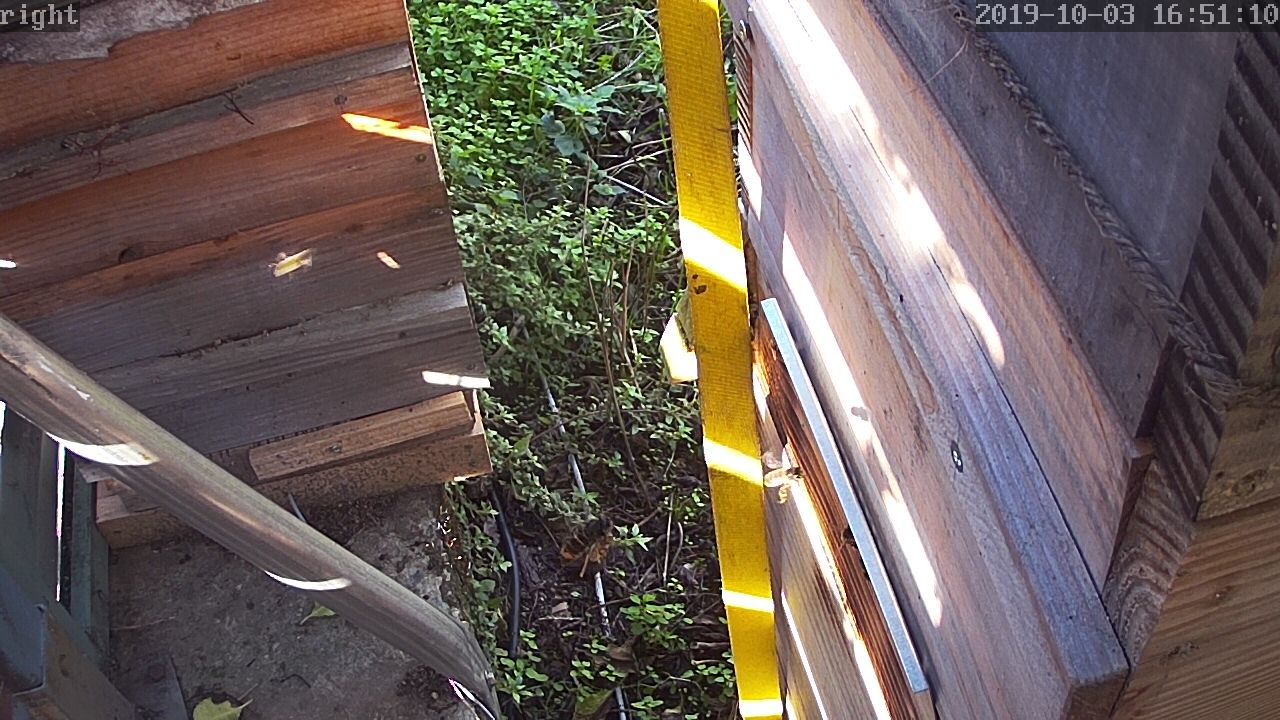bee: (757, 448, 806, 495), (833, 517, 860, 553)
hornet: (548, 506, 614, 569)
